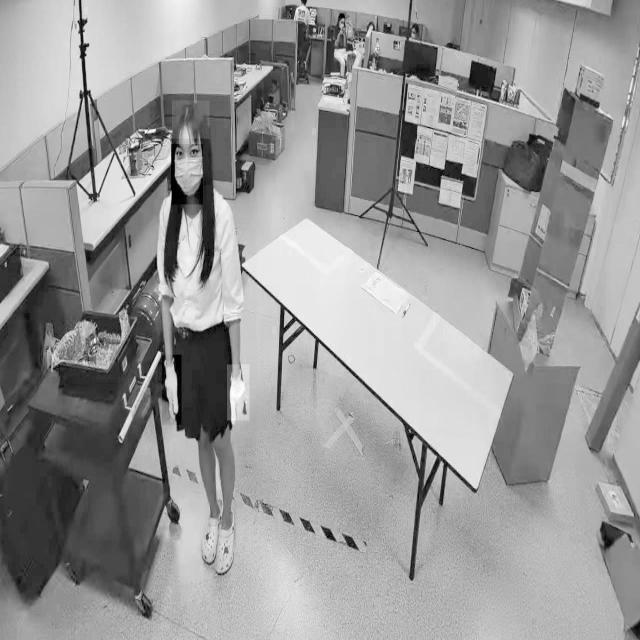face_mask: (171, 144, 203, 204)
hand_glove: (162, 354, 182, 426), (227, 364, 250, 422)
head_nohelmet: (172, 100, 210, 140), (338, 12, 346, 18)
person: (149, 100, 257, 590), (330, 1, 352, 77)
